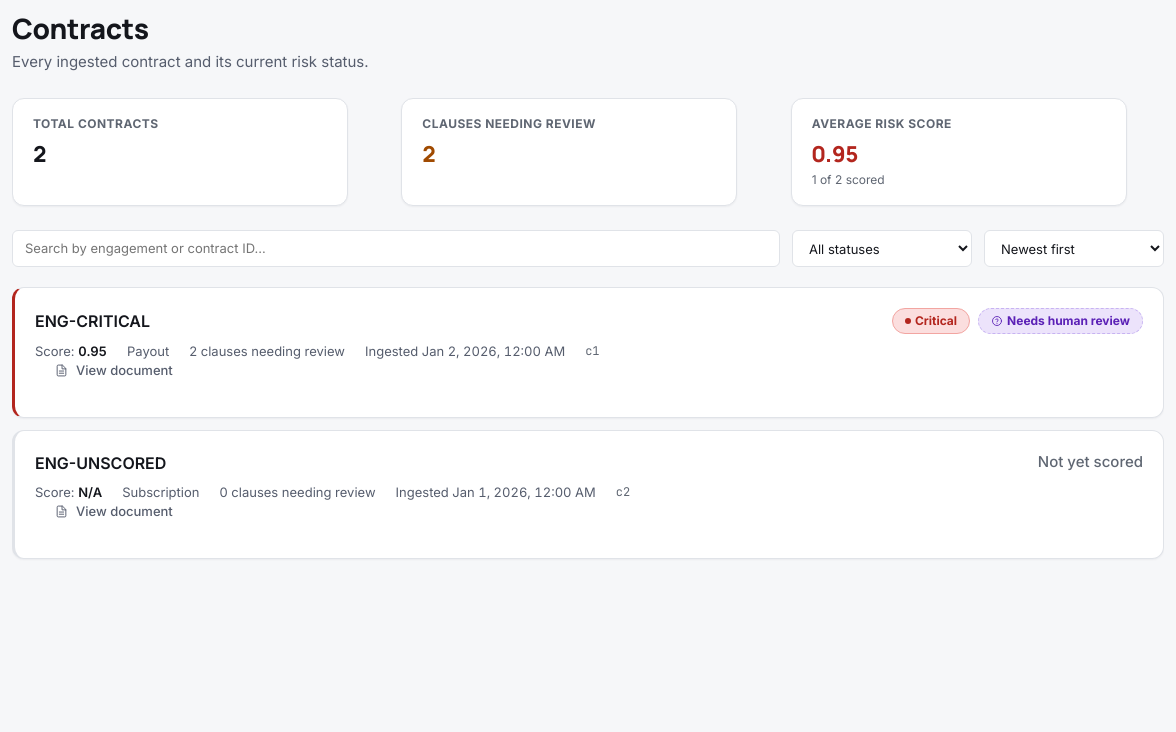
Test: ContractListPage › filters the list by search text
expect the list with test id "contract-list" is shown: met, box [12, 288, 1164, 559]
Type "unscored" into the search field named "search contracts" at [396, 249], box [12, 230, 780, 268]
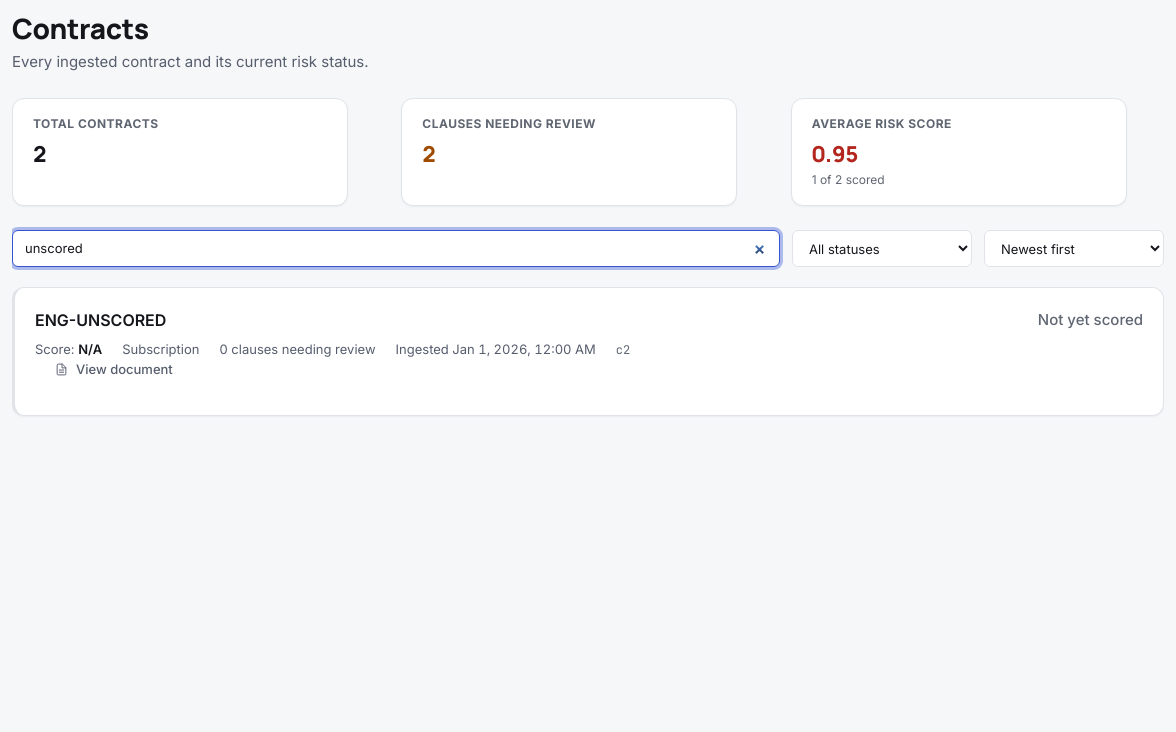
expect the text "ENG-UNSCORED" is shown: met, box [35, 308, 166, 332]
expect the link "ENG-CRITICAL" is gone: met
